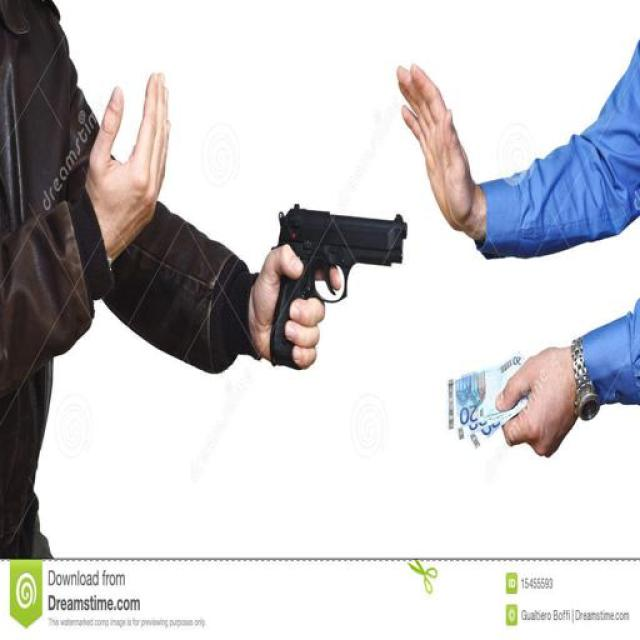pistol: (270, 194, 407, 370)
